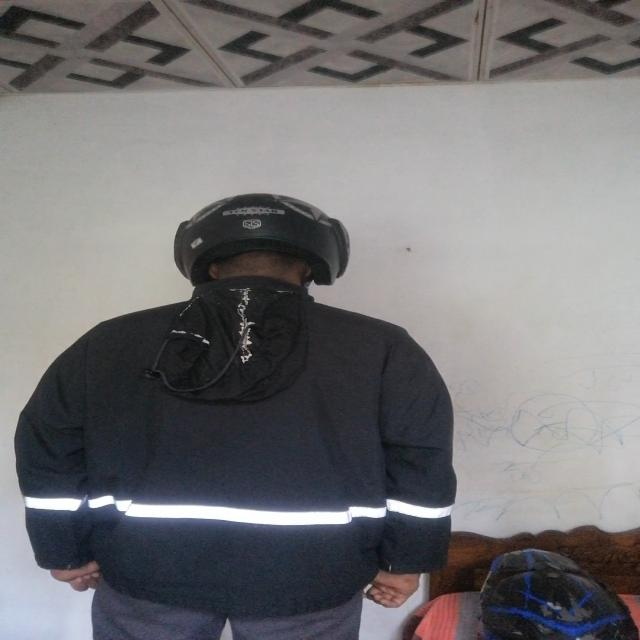Helmet_Wearer: (126, 184, 350, 328)
Jacket_Wearer: (27, 277, 477, 604)
Person: (19, 186, 508, 640)
